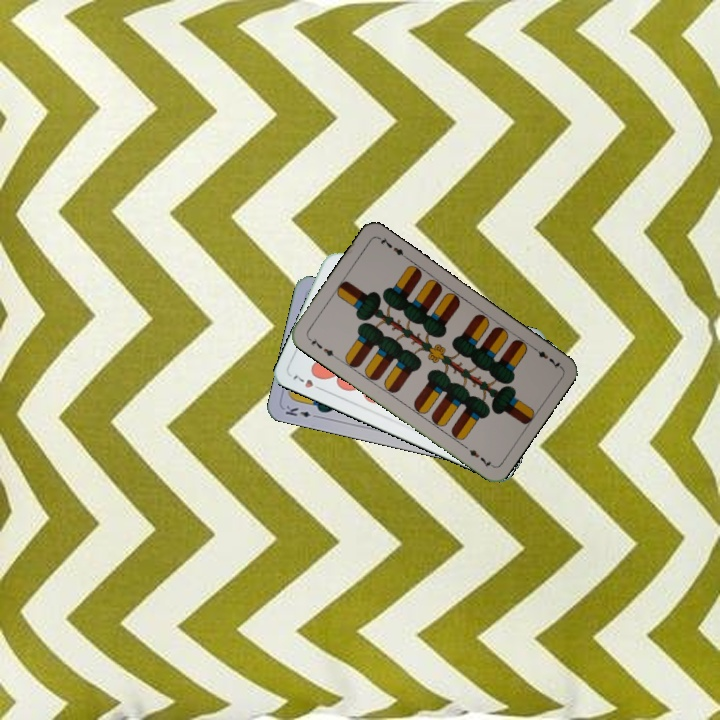E7: (528, 342, 564, 372), (304, 333, 340, 361)
EK: (281, 401, 322, 421)
H7: (289, 371, 326, 394)
